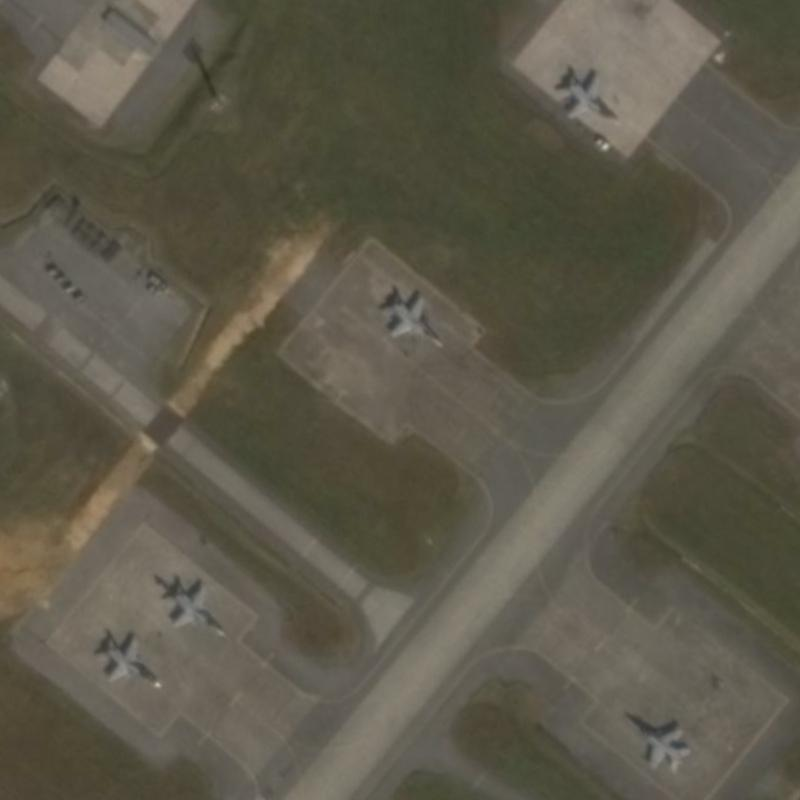A16: (544, 60, 623, 127), (86, 627, 164, 694), (618, 708, 695, 774), (374, 283, 448, 350), (156, 569, 227, 638)
